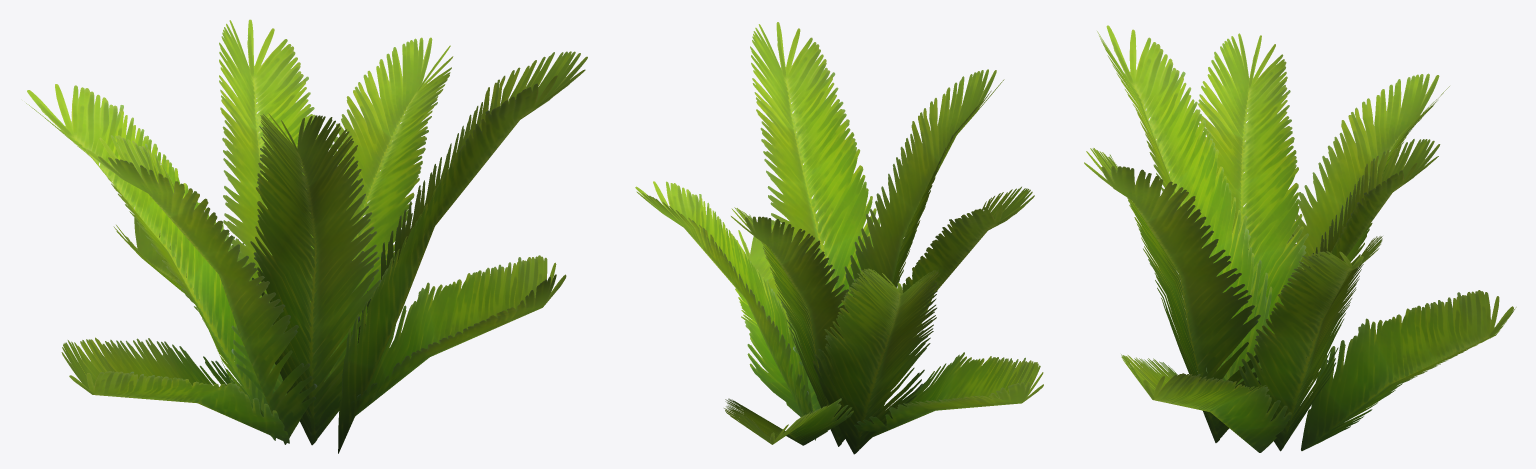
File: SM_Vegetation_02.fbx
3 views of the same model, side by side, from view 1: azimuth 30°, elevation 25°; view 2: azimuth 150°, elevation 25°; view 3: azimuth 270°, elevation 25° (orthographic). The views are drawn at different scales.
Parts seen in each view (by area): view 1: SM_Vegetation_02_LOD0; view 2: SM_Vegetation_02_LOD0; view 3: SM_Vegetation_02_LOD0.
Boxes of the visible parts, left/top/right/bottom form: SM_Vegetation_02_LOD0: left=26, top=19, right=587, bottom=453; SM_Vegetation_02_LOD0: left=635, top=22, right=1043, bottom=454; SM_Vegetation_02_LOD0: left=1084, top=25, right=1516, bottom=452.
Size of what is drawn, in the model's own units: 2.89 by 2.59 by 2.74.
